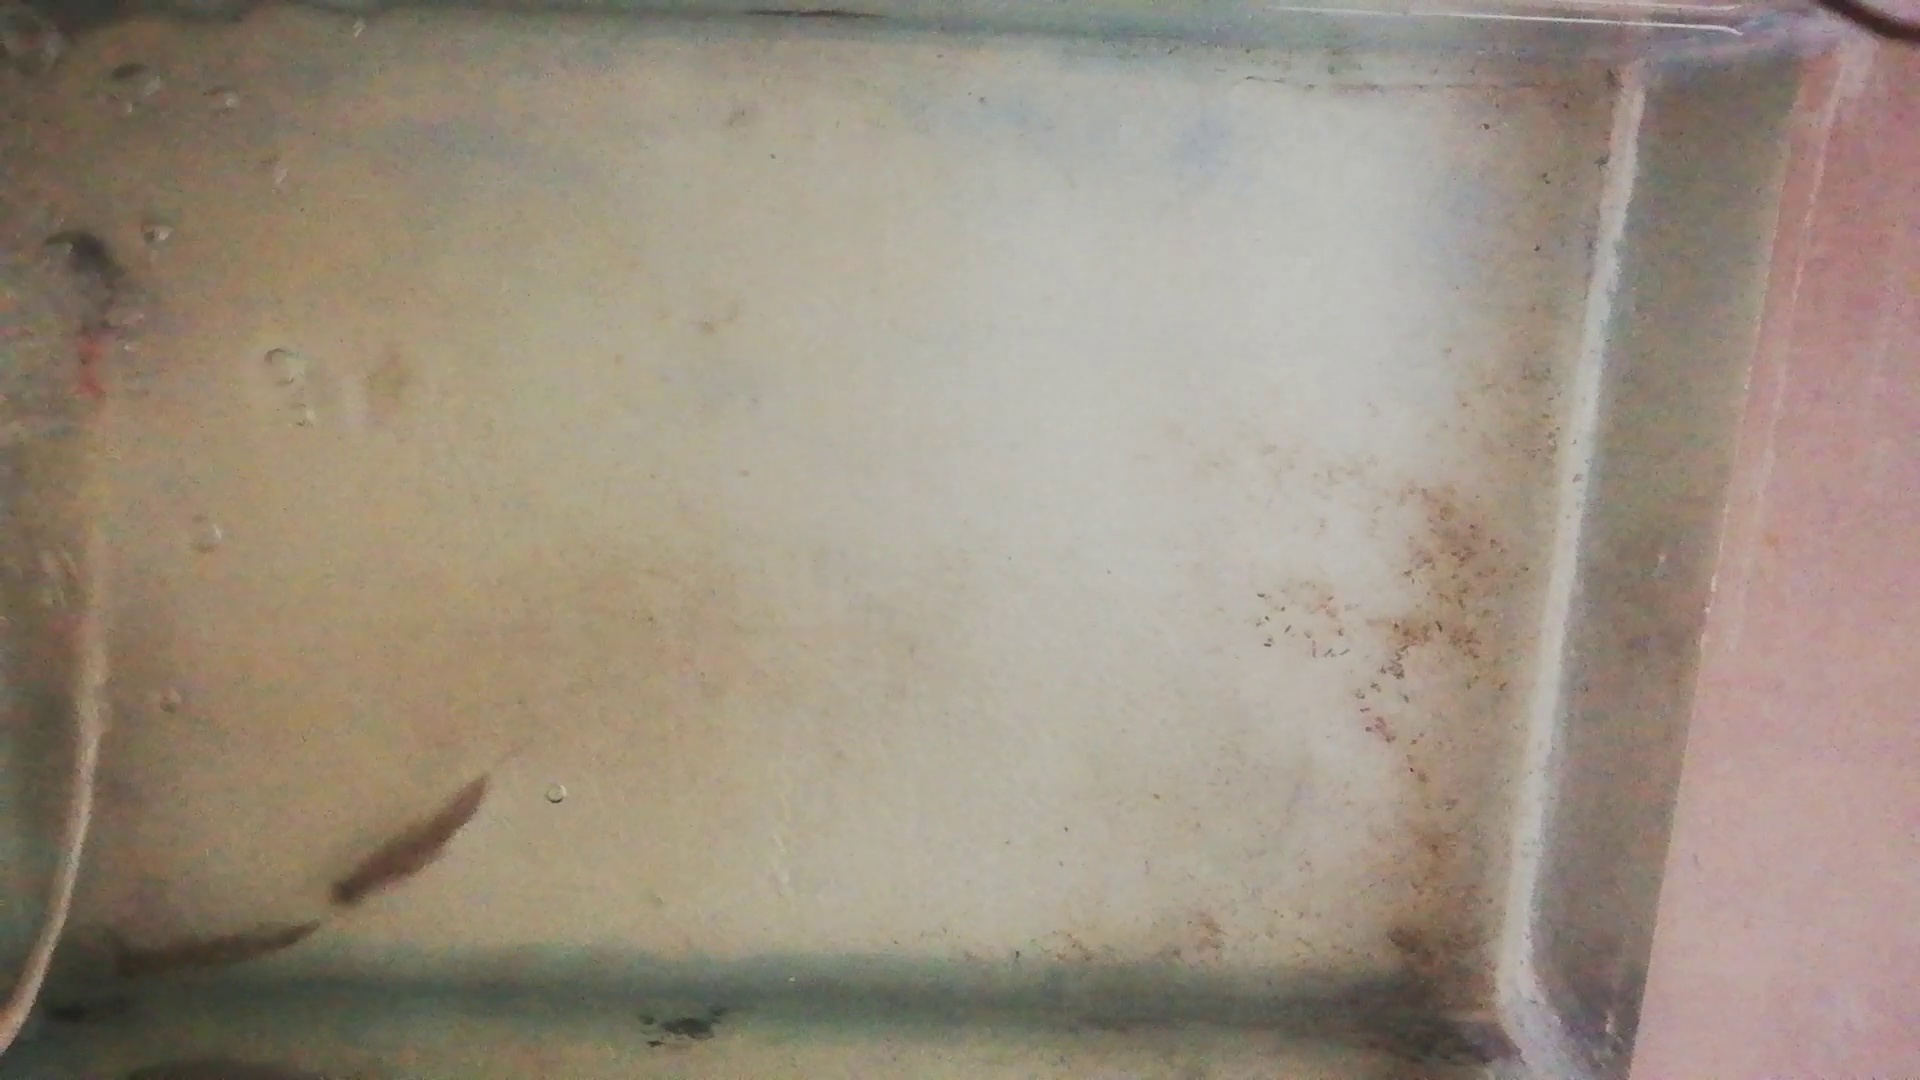fish: (327, 774, 487, 911), (116, 922, 315, 978)
